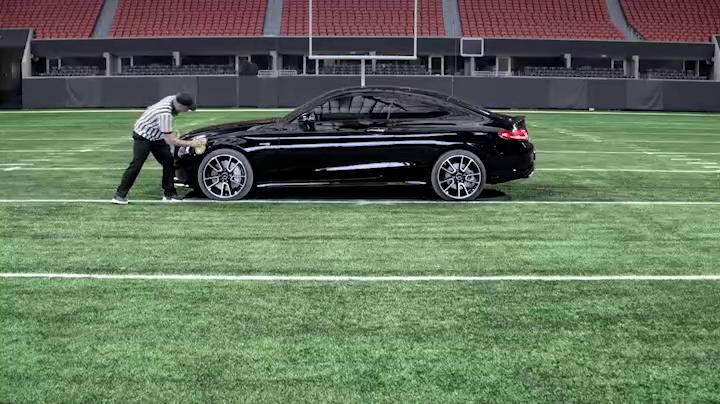amg: (179, 85, 537, 202)
